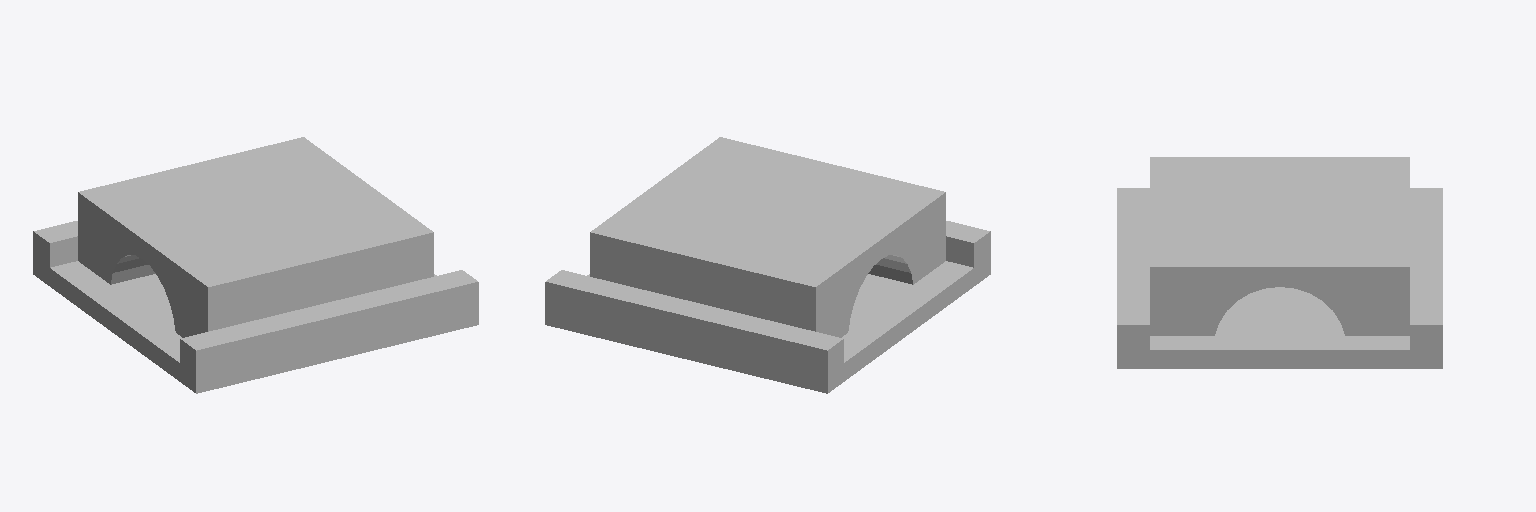
File: tunnelWide.obj
The picture shows the model from 3 angles: view 1: azimuth 30°, elevation 25°; view 2: azimuth 150°, elevation 25°; view 3: azimuth 270°, elevation 25°; orthographic projection.
Visible parts, largest first — view 1: tunnelWide; view 2: tunnelWide; view 3: tunnelWide.
Boxes of the visible parts, <box> form: tunnelWide: <box>33,137,478,393</box>; tunnelWide: <box>545,137,990,393</box>; tunnelWide: <box>1117,157,1442,368</box>.
Size of the model in its own units: 0.9999 by 0.2966 by 0.9999.